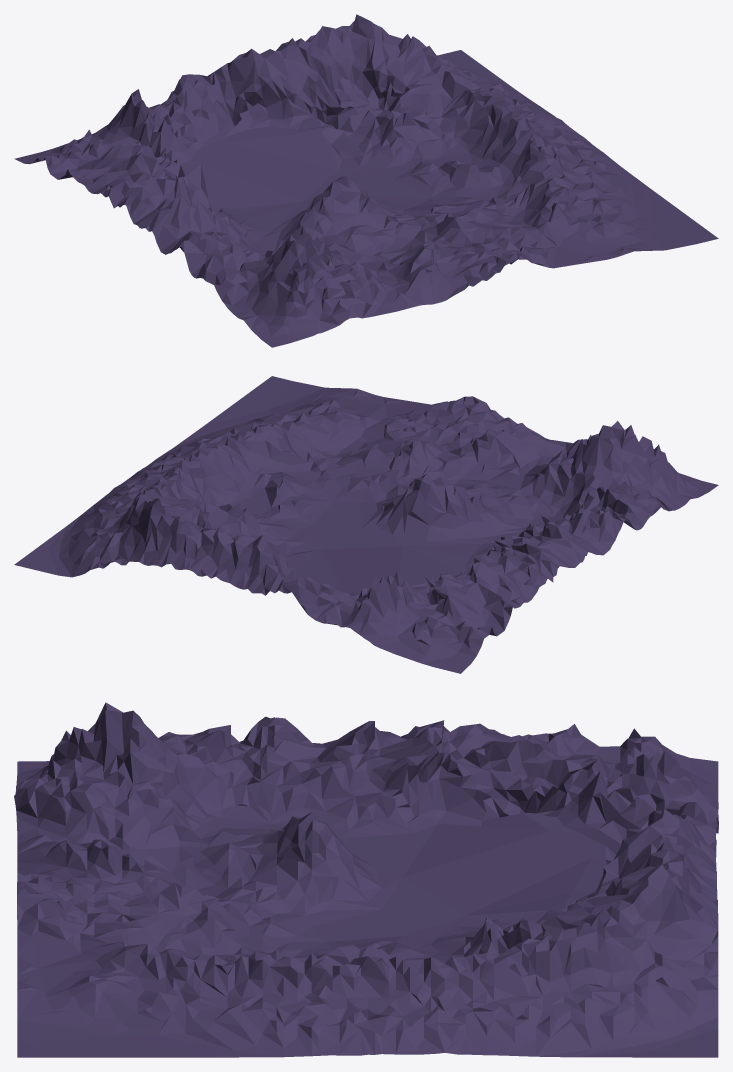
The model's file is Mountains.fbx.
The picture shows the model from 3 angles, top to bottom: view 1: azimuth 30°, elevation 25°; view 2: azimuth 150°, elevation 25°; view 3: azimuth 270°, elevation 25°; orthographic projection. The views are drawn at different scales.
Visible parts, largest first — view 1: Mountains_Plane; view 2: Mountains_Plane; view 3: Mountains_Plane.
Part boxes in pixels (bbox=[...]): Mountains_Plane: bbox=[14, 14, 718, 347]; Mountains_Plane: bbox=[14, 376, 718, 673]; Mountains_Plane: bbox=[14, 702, 718, 1057].
Size of the model in its own units: 406 by 70.54 by 408.
